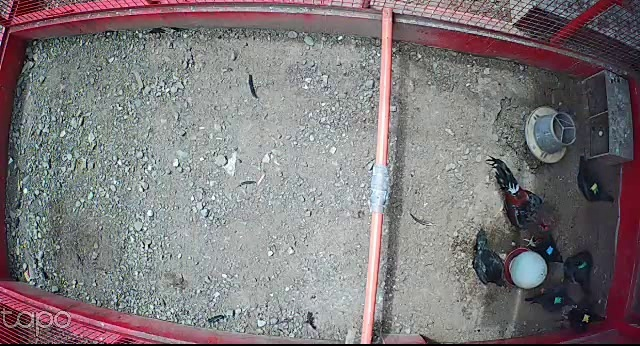Chicken: (463, 224, 512, 292), (572, 151, 618, 209), (550, 303, 612, 337), (520, 229, 567, 270), (560, 248, 597, 300), (524, 284, 583, 314)
Drinker: (502, 245, 549, 290)
Feeder: (523, 106, 577, 164)
Rooster: (482, 147, 555, 239)
Saddle_Color_Blue: (545, 244, 554, 255)
Saddle_Color_Green: (577, 260, 586, 271)
Saddle_Color_Yellow: (582, 314, 592, 324)
Saddle_Color_YellowGreen: (587, 182, 599, 193)
